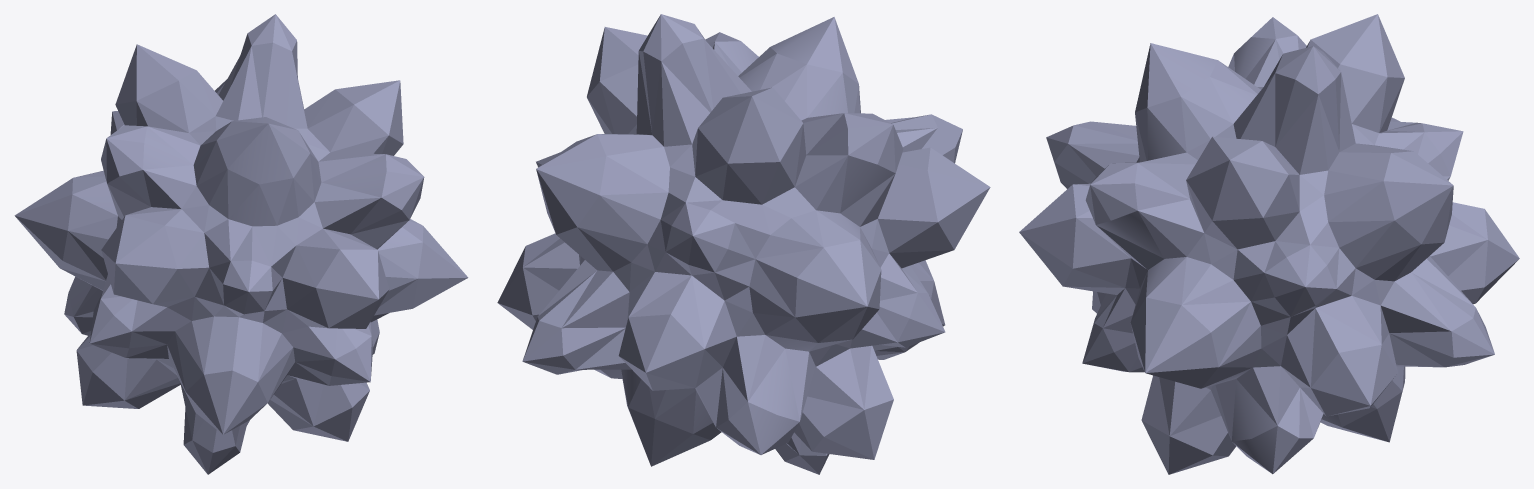
File: MD_star_251231.fbx
3 renders of one model, left to right at view 1: azimuth 30°, elevation 25°; view 2: azimuth 150°, elevation 25°; view 3: azimuth 270°, elevation 25°, orthographic. The views are drawn at different scales.
Visible parts, largest first — view 1: star; view 2: star; view 3: star.
Part boxes in pixels (x1,y1,x2,y2): star: [14, 14, 468, 474]; star: [497, 14, 990, 474]; star: [1019, 14, 1519, 474].
Size of the model in its own units: 584 by 663 by 662.
